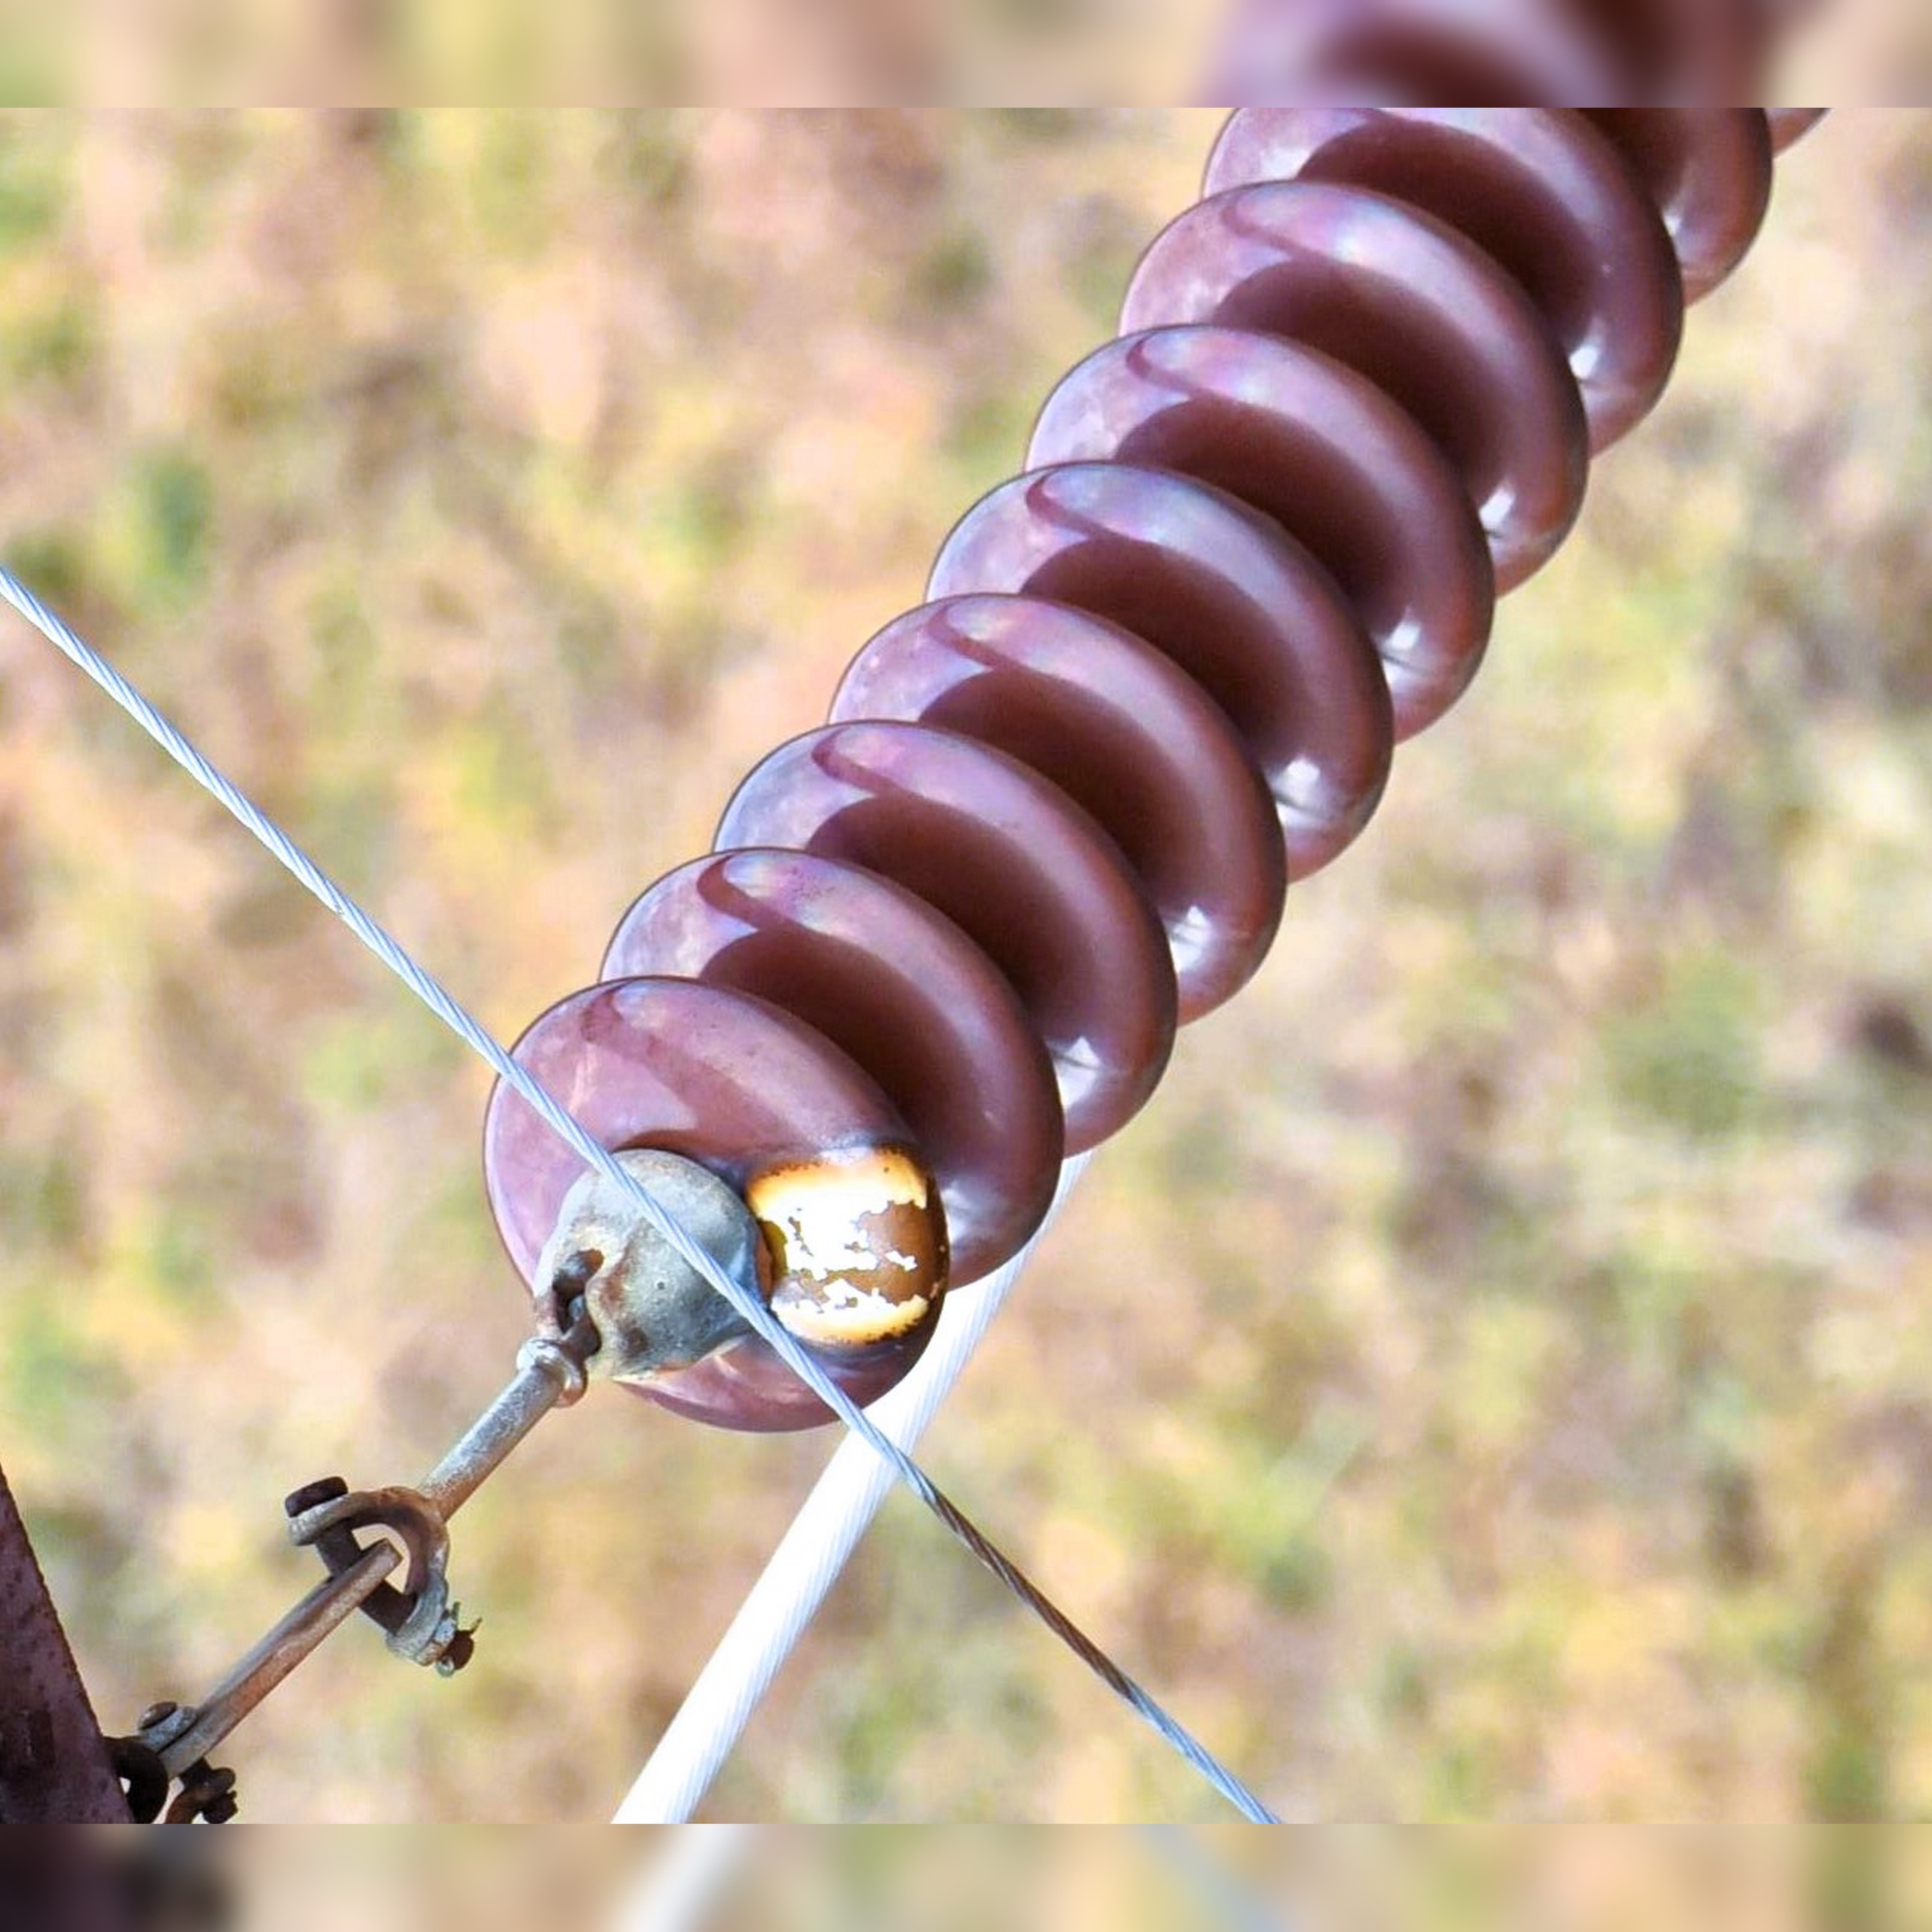Insulator flashover: (464, 959, 959, 1438)
